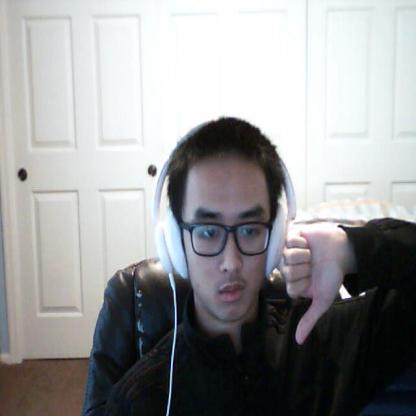Thumbs-Down: (283, 221, 344, 345)
